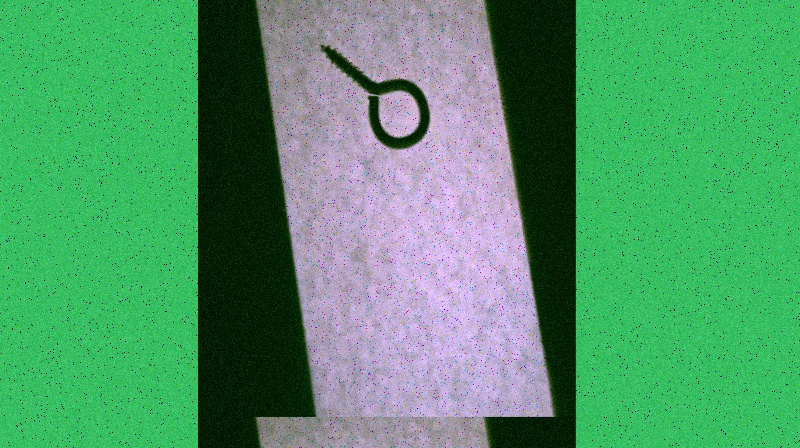O001: (314, 43, 430, 151)
